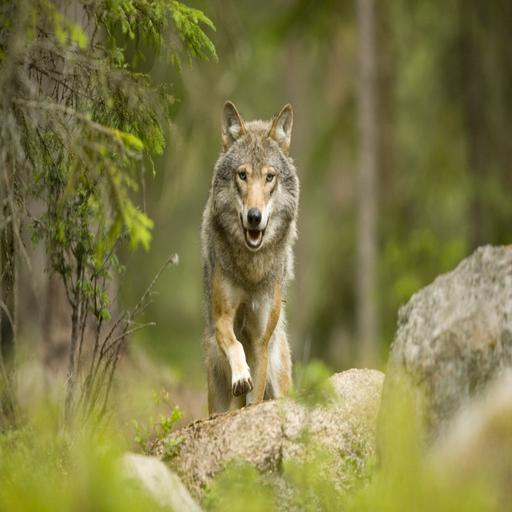Wolf: (188, 93, 312, 419)
